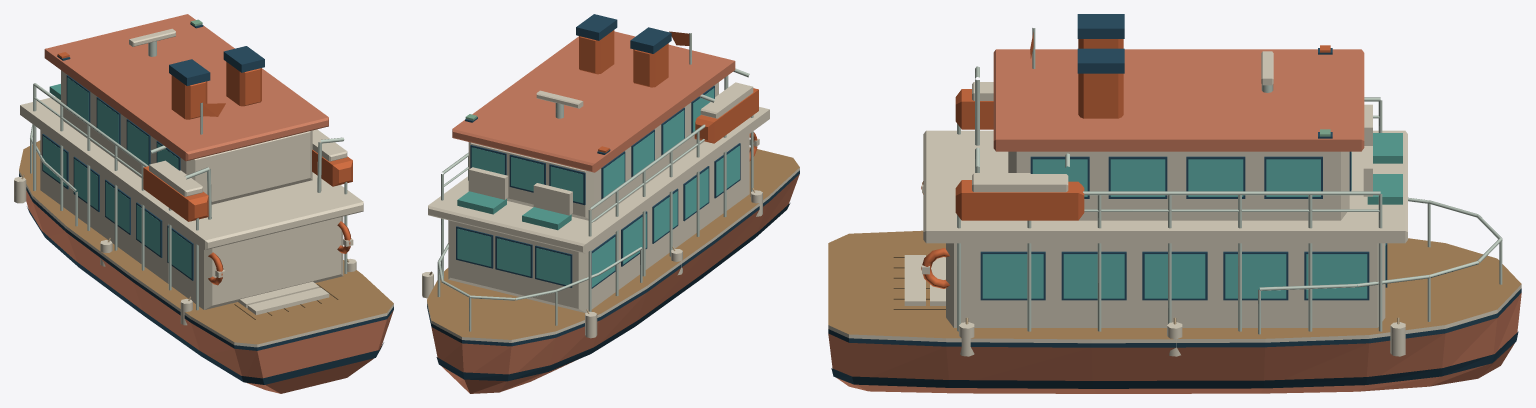
File: ferry.glb
3 renders of one model, left to right at view 1: azimuth 30°, elevation 25°; view 2: azimuth 150°, elevation 25°; view 3: azimuth 270°, elevation 25°, orthographic. The views are drawn at different scales.
Visible parts, largest first — view 1: static_painted, static_glass, static_metal, static_dark; view 2: static_painted, static_glass, static_dark, static_metal; view 3: static_painted, static_glass, static_metal, static_dark.
Boxes of the visible parts, x1,y1,x2,y2 form: static_painted: (14,14,393,393); static_glass: (43,77,191,278); static_metal: (30,41,347,310); static_dark: (42,23,264,280); static_painted: (422,30,799,393); static_glass: (457,88,739,287); static_dark: (456,14,740,288); static_metal: (437,33,753,331); static_painted: (828,32,1521,393); static_glass: (982,152,1385,298); static_metal: (957,28,1502,334); static_dark: (980,14,1387,300).
Size of the model in its own units: 3.4 by 4.68 by 9.
